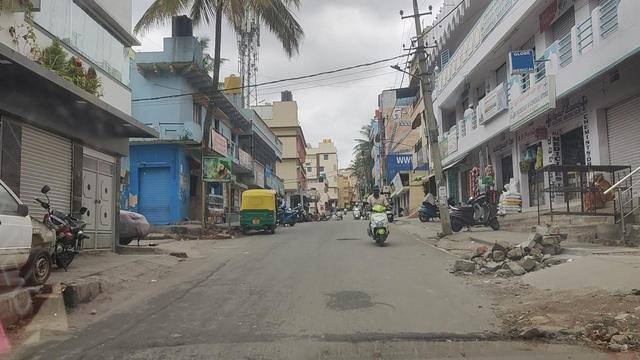LMV: (366, 186, 392, 246)
RoadDamages: (359, 293, 398, 315)
SpeedBump: (104, 315, 535, 360)
